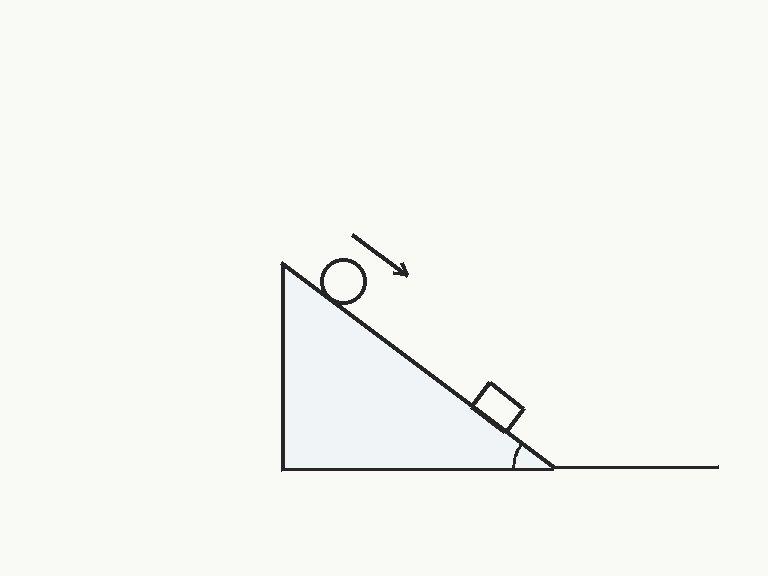ball: (318, 256, 368, 306)
block: (469, 380, 525, 434)
ramp: (279, 261, 555, 470)
